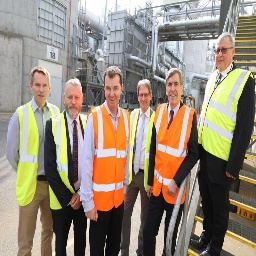no-helmet: (102, 62, 128, 82), (30, 66, 52, 84), (215, 29, 235, 46), (64, 79, 84, 92), (137, 78, 152, 91), (165, 68, 182, 79)
person: (200, 28, 256, 256), (11, 66, 60, 254), (86, 62, 132, 256), (155, 69, 199, 256), (47, 74, 90, 251), (125, 73, 158, 256)
vest: (12, 98, 64, 219), (81, 106, 132, 213), (201, 67, 253, 165), (152, 98, 195, 205)
